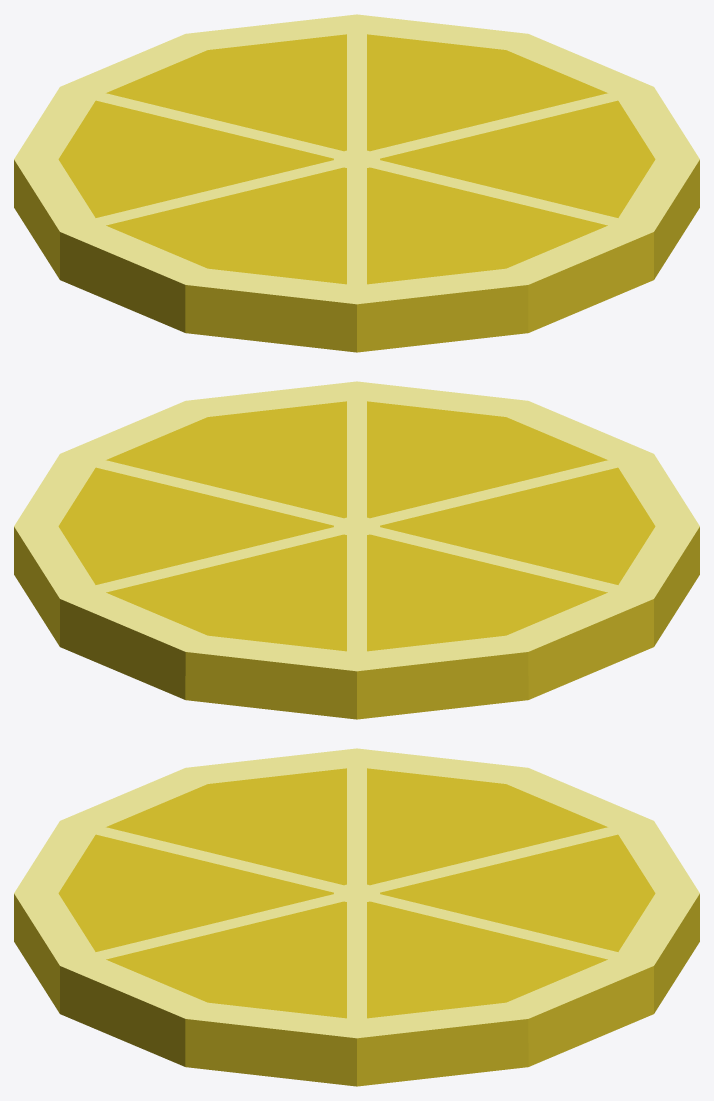
Rendered from Lemon_03.fbx.
3 views of the same model, one above another, from view 1: azimuth 30°, elevation 25°; view 2: azimuth 150°, elevation 25°; view 3: azimuth 270°, elevation 25° (orthographic).
Parts seen in each view (by area): view 1: Lemon_03; view 2: Lemon_03; view 3: Lemon_03.
Part boxes in pixels (x1,y1,x2,y2): Lemon_03: (14, 14, 699, 352); Lemon_03: (14, 381, 699, 719); Lemon_03: (14, 748, 699, 1086).
Bounding box in the file's own units: 7.24 × 0.5619 × 7.24.
